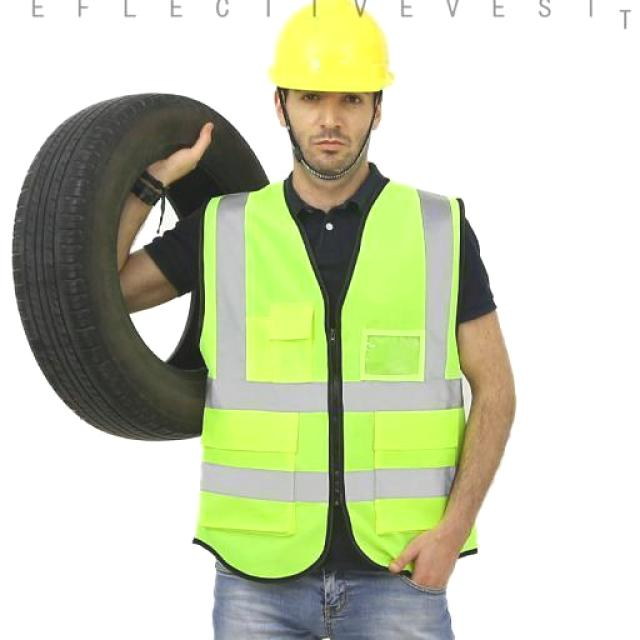face_nomask: (289, 86, 376, 164)
head_helmet: (268, 0, 397, 100)
person: (89, 0, 518, 640)
vest: (198, 161, 488, 579)
